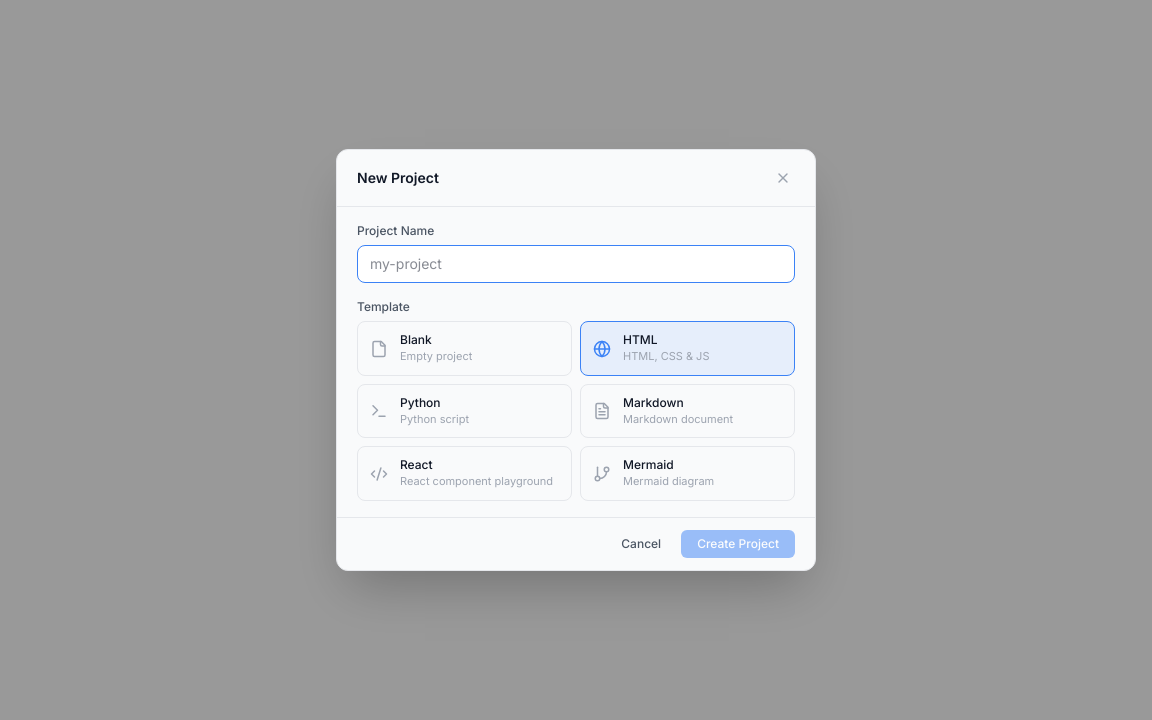
it: NewProjectDialog › should show validation error for invalid characters
Type "my project!" into the field with placeholder "my-project" at x=576, y=264, box [357, 245, 795, 283]
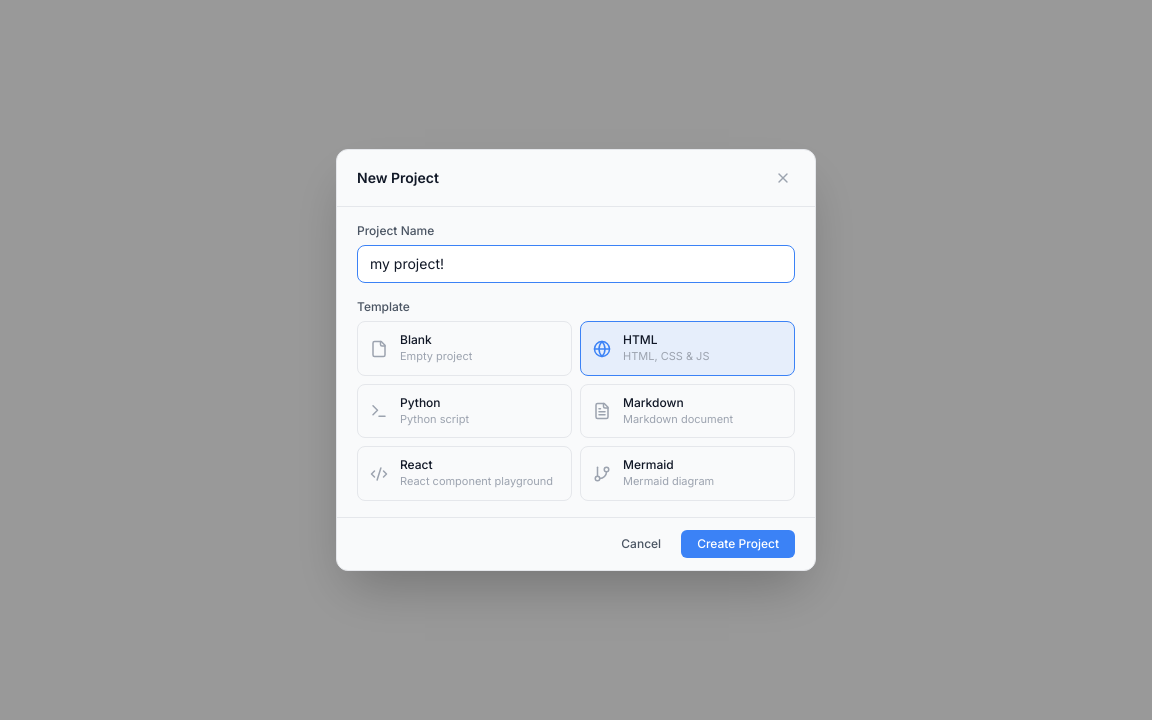
Click the button "Create Project" at x=738, y=544, box [681, 530, 795, 558]
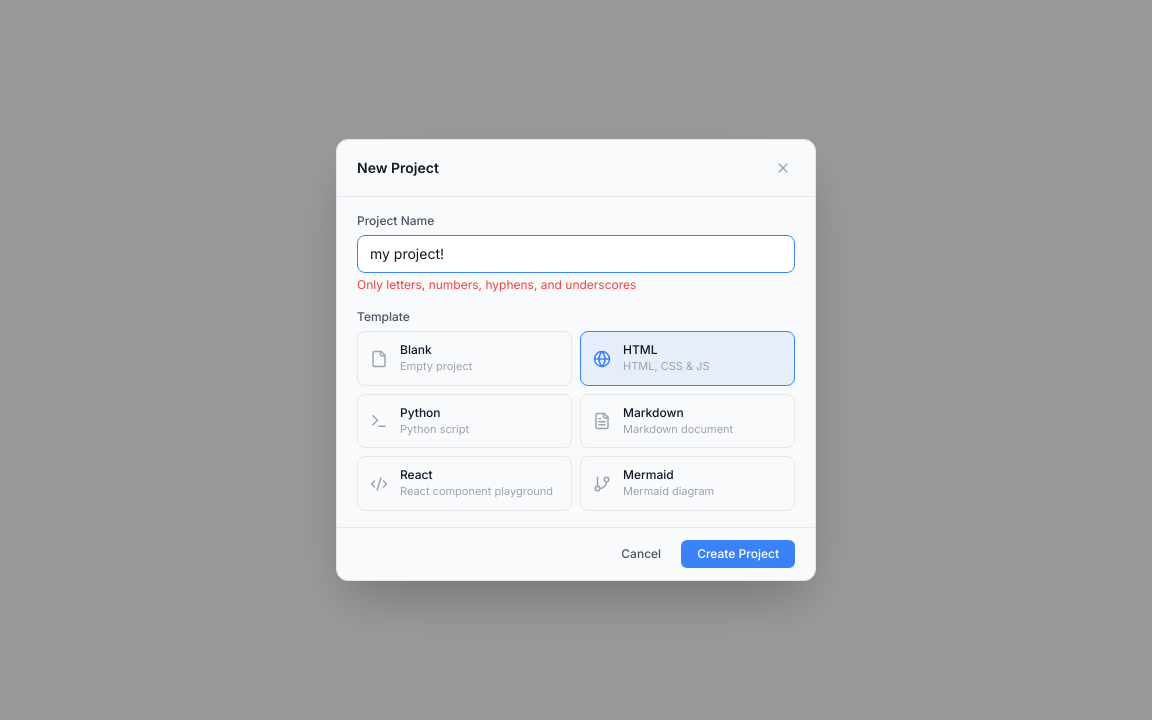
Check: the text "Only letters, numbers, hyphens, and underscores" is shown, box [357, 277, 636, 292]
